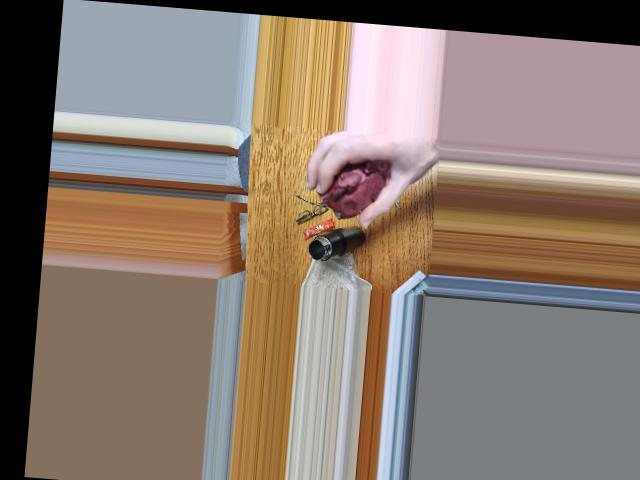onion: (317, 155, 390, 214)
